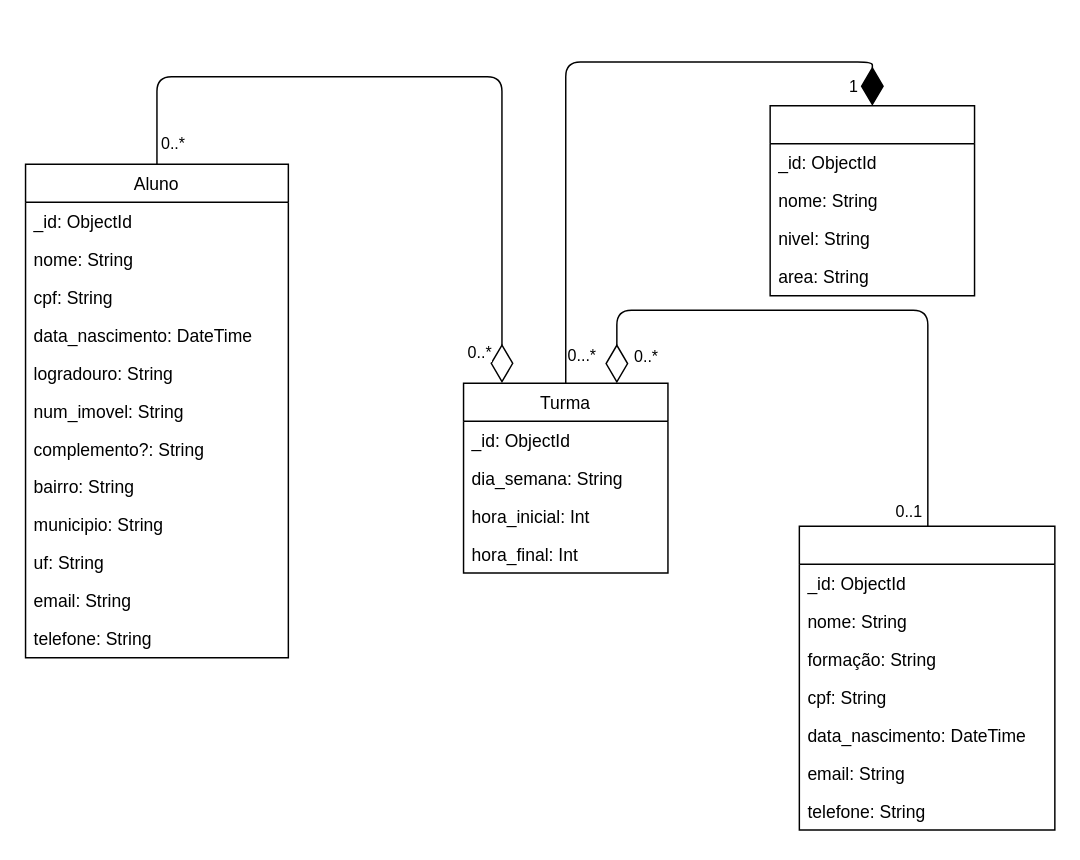
This 1080x860 diagram has some shape labels left out. The box of each missing label's shape, as (x1, y1, x2, y2) in pixels:
Curso: (769, 104, 975, 296)
Professor: (798, 525, 1055, 830)
